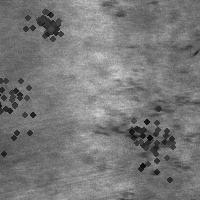rolled-in_scale: (93, 75, 200, 176), (105, 95, 195, 185), (0, 55, 54, 153), (22, 0, 68, 45), (101, 1, 133, 18)
